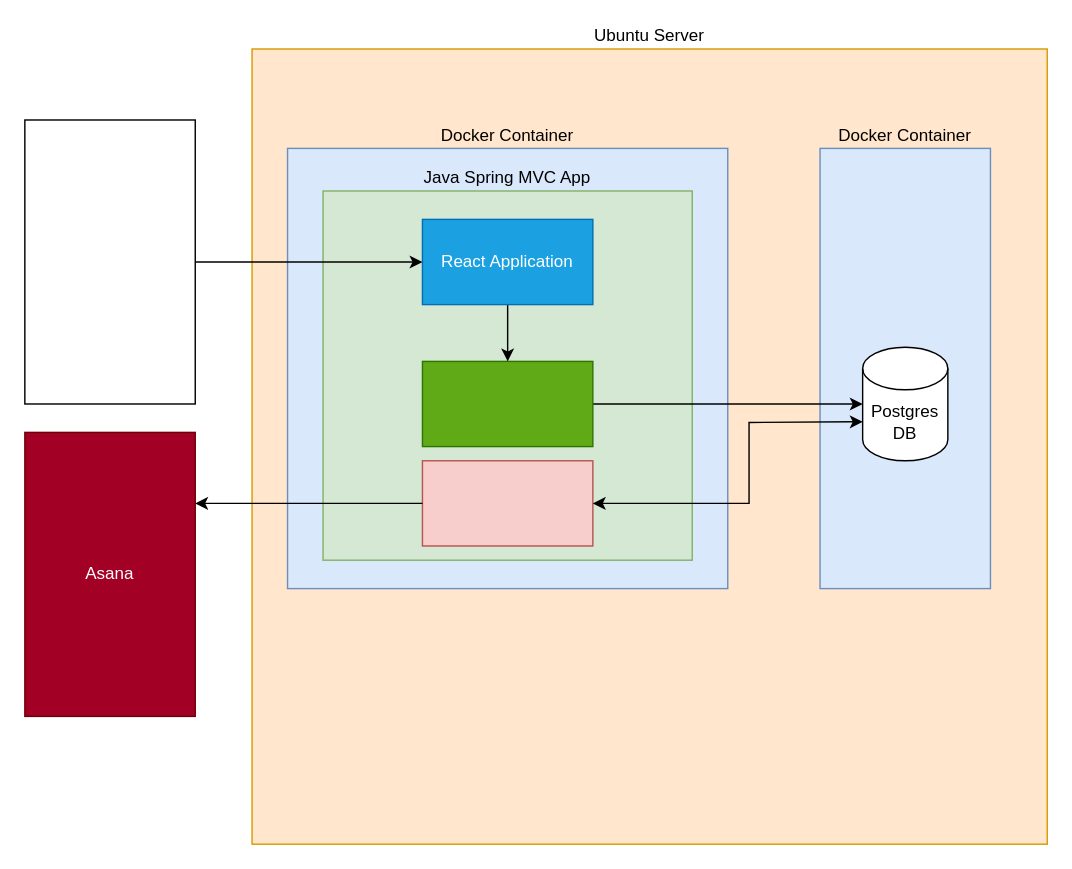
The diagram is 1072 pixels wide and 869 high, and some of its shapes have lost their labels. The shapes that lost their labels are listed below. From the top down, each one's centre as x and y in pixels, then its label:
pixel 109 261: User
pixel 507 403: Rest Controller
pixel 507 502: Asana Scheduler
